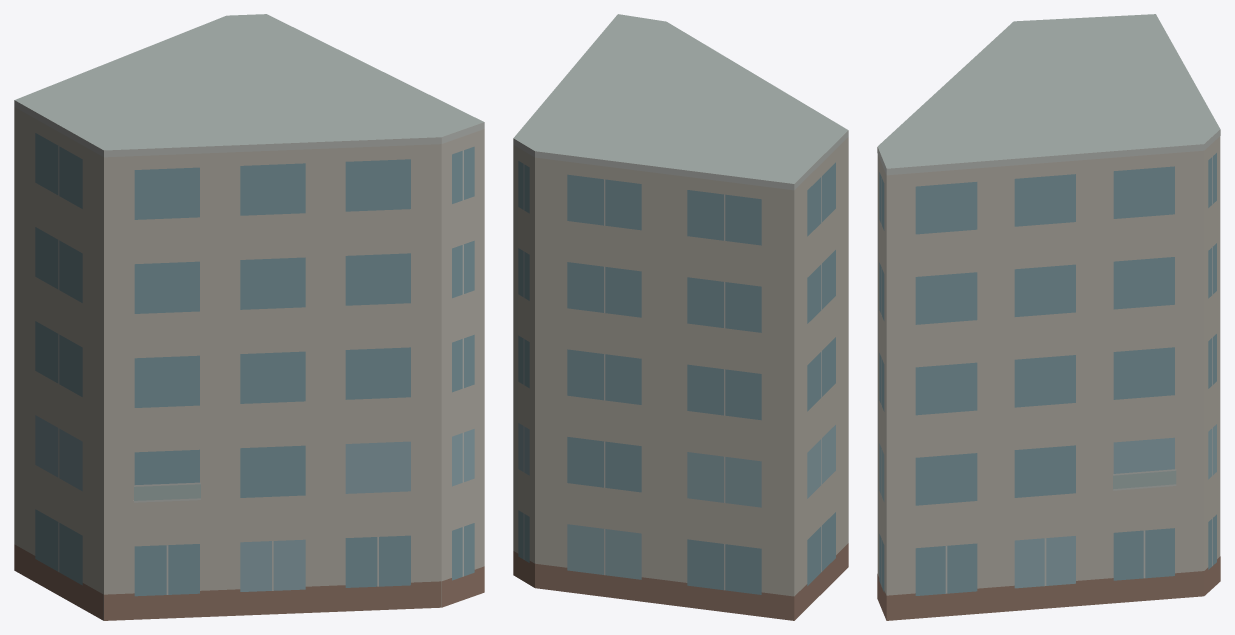
The model's file is survey-upis-33000959.glb.
3 renders of one model, left to right at view 1: azimuth 30°, elevation 25°; view 2: azimuth 150°, elevation 25°; view 3: azimuth 270°, elevation 25°, orthographic. The views are drawn at different scales.
Visible parts, largest first — view 1: survey-upis-33000959.tmp; view 2: survey-upis-33000959.tmp; view 3: survey-upis-33000959.tmp.
Boxes of the visible parts, <box> form: survey-upis-33000959.tmp: <box>14,14,484,620</box>; survey-upis-33000959.tmp: <box>513,14,848,620</box>; survey-upis-33000959.tmp: <box>877,14,1220,620</box>.
Bounding box in the file's own units: 12.31 × 16.75 × 11.53.
